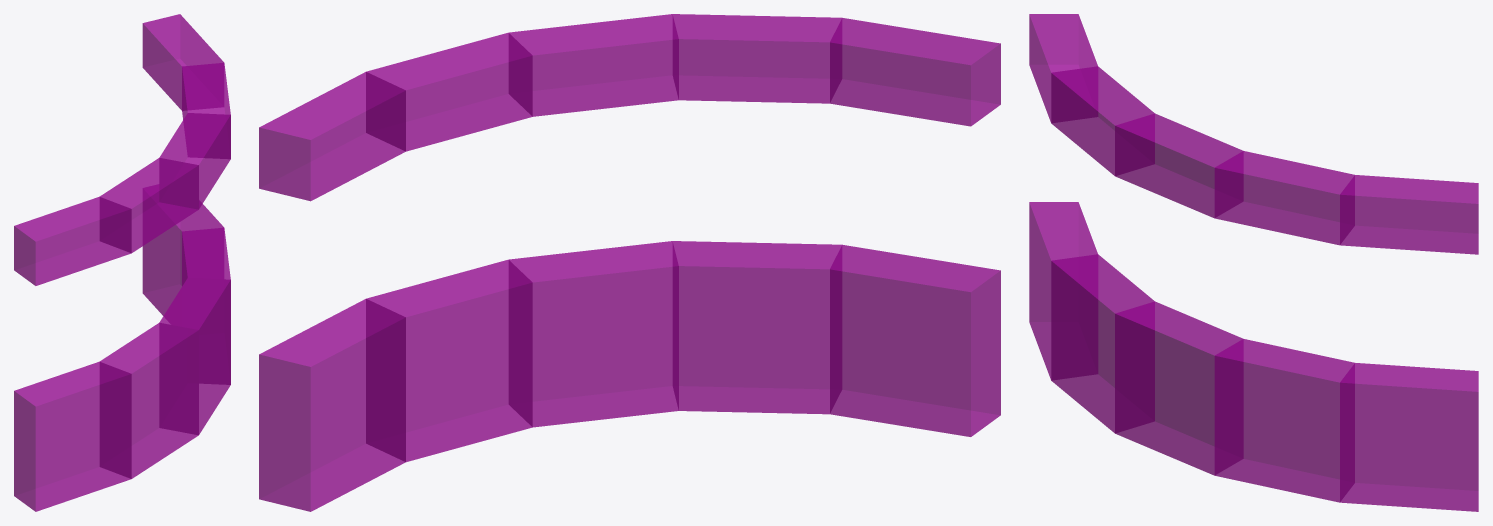
File: SM_Bld_Wall_Curve_Window_01_Collision.fbx
3 renders of one model, left to right at view 1: azimuth 30°, elevation 25°; view 2: azimuth 150°, elevation 25°; view 3: azimuth 270°, elevation 25°, orthographic. The views are drawn at different scales.
Parts seen in each view (by area): view 1: SM_Bld_Wall_Curve_Window_01_Collision; view 2: SM_Bld_Wall_Curve_Window_01_Collision; view 3: SM_Bld_Wall_Curve_Window_01_Collision.
Boxes of the visible parts, left/top/right/bottom form: SM_Bld_Wall_Curve_Window_01_Collision: left=14, top=14, right=230, bottom=511; SM_Bld_Wall_Curve_Window_01_Collision: left=259, top=14, right=1000, bottom=511; SM_Bld_Wall_Curve_Window_01_Collision: left=1029, top=14, right=1478, bottom=511.
Size of the model in its own units: 398 by 301 by 398.
